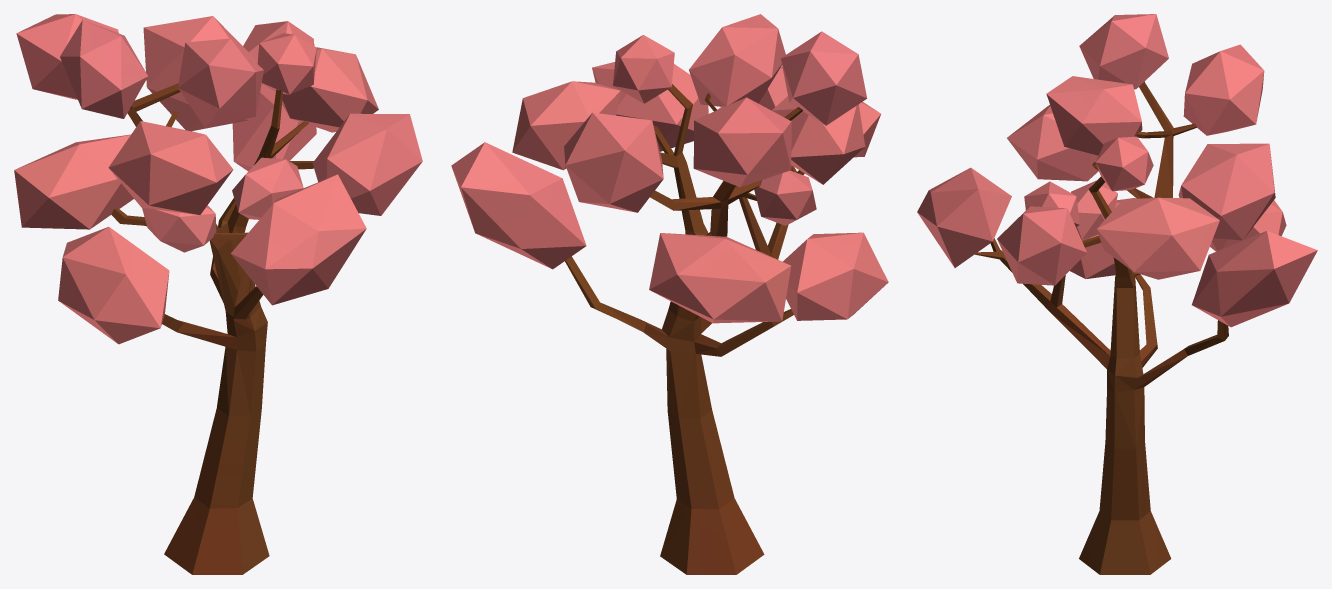
Rendered from cerezo2.glb.
3 renders of one model, left to right at view 1: azimuth 30°, elevation 25°; view 2: azimuth 150°, elevation 25°; view 3: azimuth 270°, elevation 25°, orthographic. The views are drawn at different scales.
Parts seen in each view (by area): view 1: Tree00_MaterialTree00_0; view 2: Tree00_MaterialTree00_0; view 3: Tree00_MaterialTree00_0.
Boxes of the visible parts, x1=… form: Tree00_MaterialTree00_0: x1=14, y1=14, x2=422, y2=574; Tree00_MaterialTree00_0: x1=451, y1=14, x2=888, y2=574; Tree00_MaterialTree00_0: x1=917, y1=14, x2=1317, y2=574.
Bounding box in the file's own units: 2.06 × 3.29 × 2.42.
Materials: 1 (1 with a texture image).
